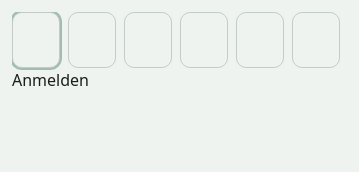
Test: PinInput › renders six cells and reports the typed digits
Type "482916" into the password field named "PIN".
click(176, 40); type("482916")  # box [12,12,340,68]
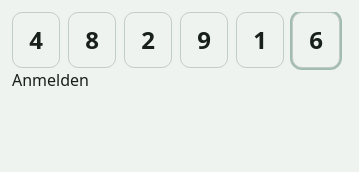
Check: the text "4" is shown, box [12,12,60,68]
Check: the text "6" is shown, box [292,12,340,68]
